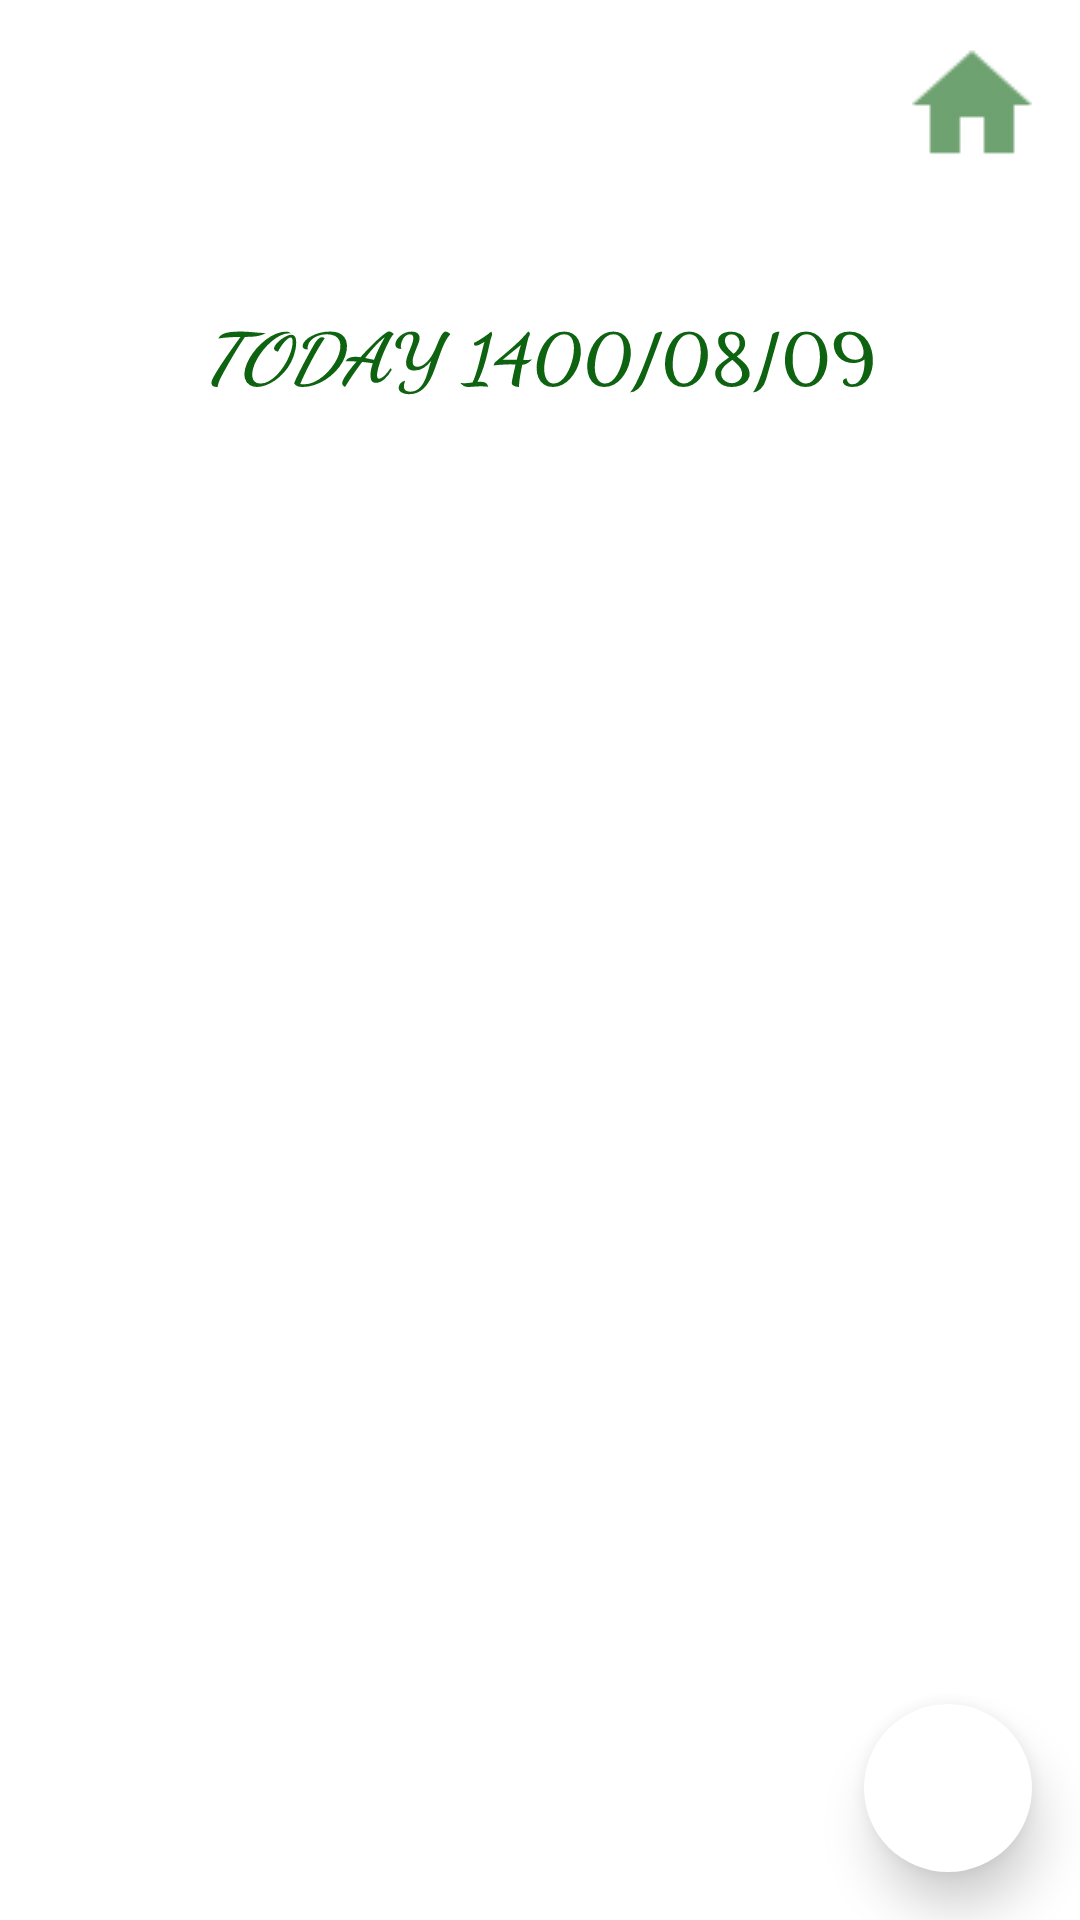

Icon bounding boxes for this 1080w x 1920h phone screenshot, format [x1,y1,x2,y2]:
home: [912,50,1032,154]
